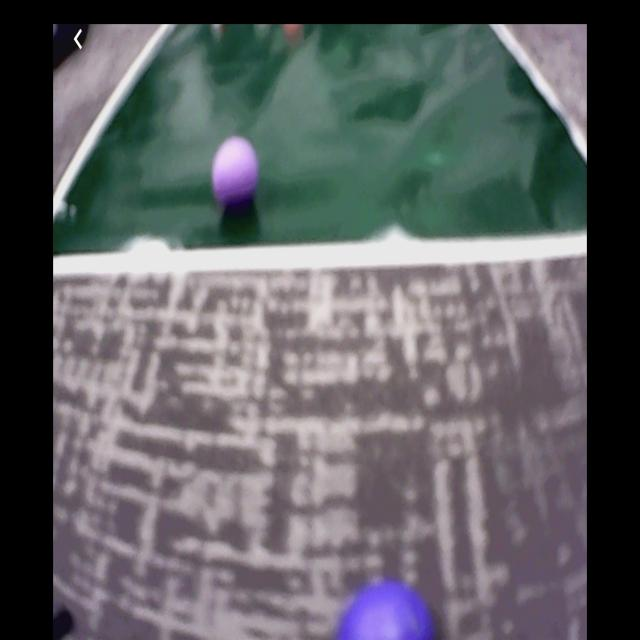ball: (335, 577, 429, 640), (209, 138, 259, 205)
